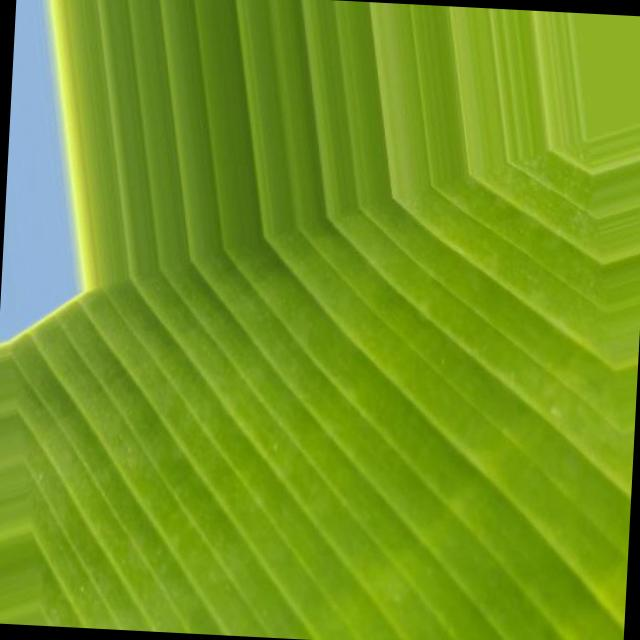Banana_Healthy: (148, 103, 580, 482)
